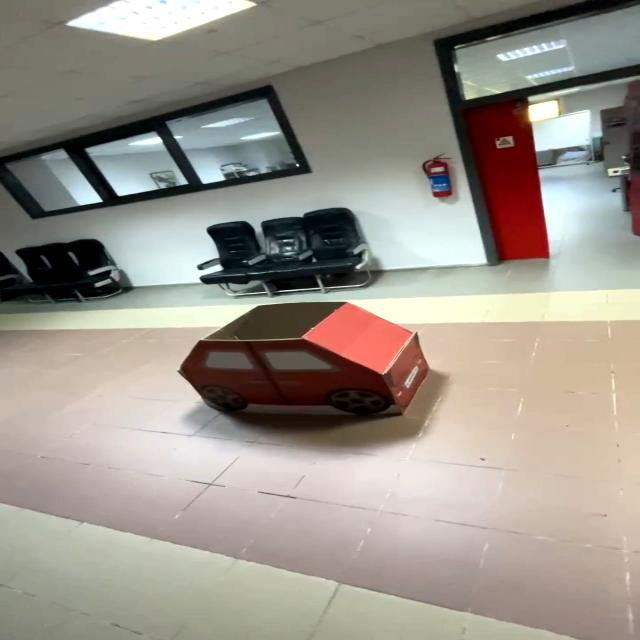red_car: (171, 292, 454, 434)
